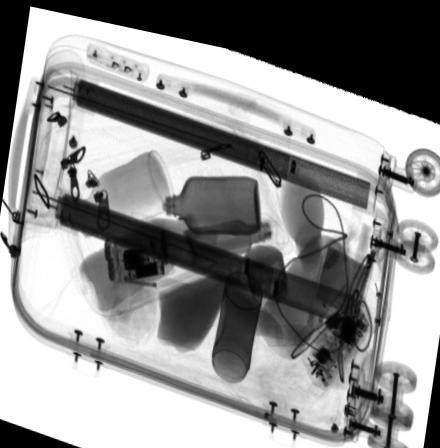Powerbank: (305, 221, 373, 337)
